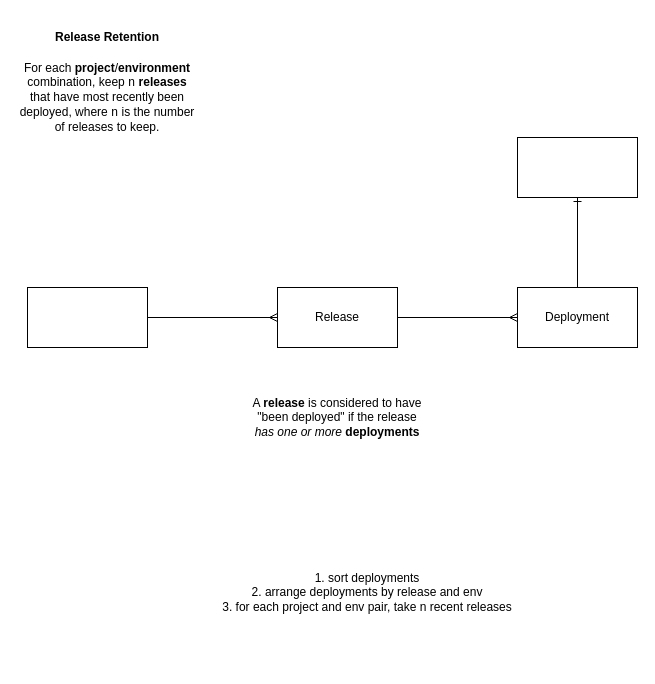
Some shapes in this 655 by 684 pixel diagram are drawn without their labels. Here are the shapes that lost their labels. From the top down, the centre of each, then its label:
(x=577, y=167): Environment
(x=87, y=317): Project
